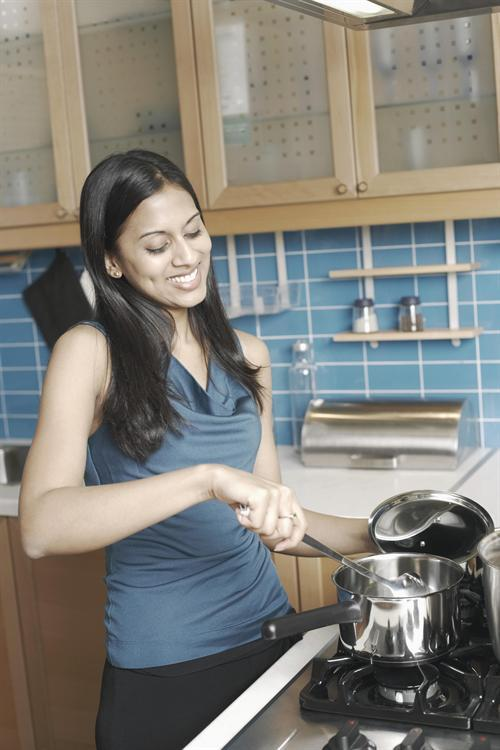person: (18, 153, 306, 749)
